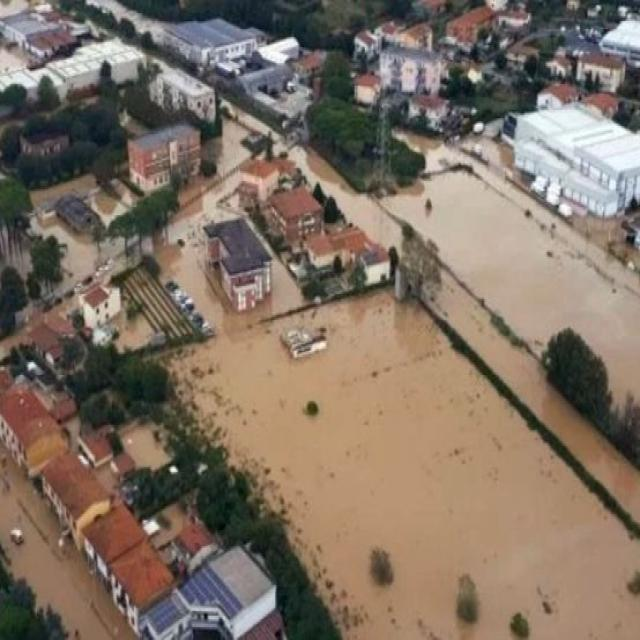flooded_areas: (36, 173, 628, 638)
